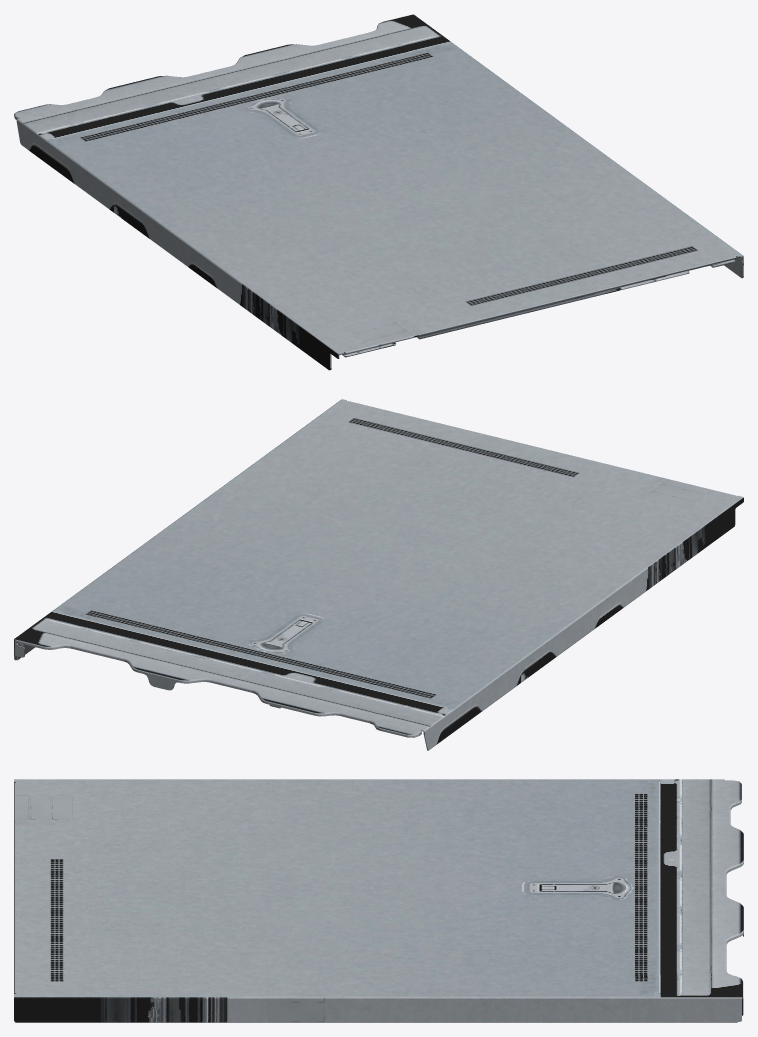
3 renders of one model, top to bottom at view 1: azimuth 30°, elevation 25°; view 2: azimuth 150°, elevation 25°; view 3: azimuth 270°, elevation 25°, orthographic. The views are drawn at different scales.
Parts seen in each view (by area): view 1: node; view 2: node; view 3: node.
Part boxes in pixels (x1,y1,x2,y2): node: [14, 14, 743, 370]; node: [14, 399, 743, 750]; node: [14, 779, 743, 1022].
Bounding box in the file's own units: 447 × 24.6 × 631.
1 material, 1 textured.
